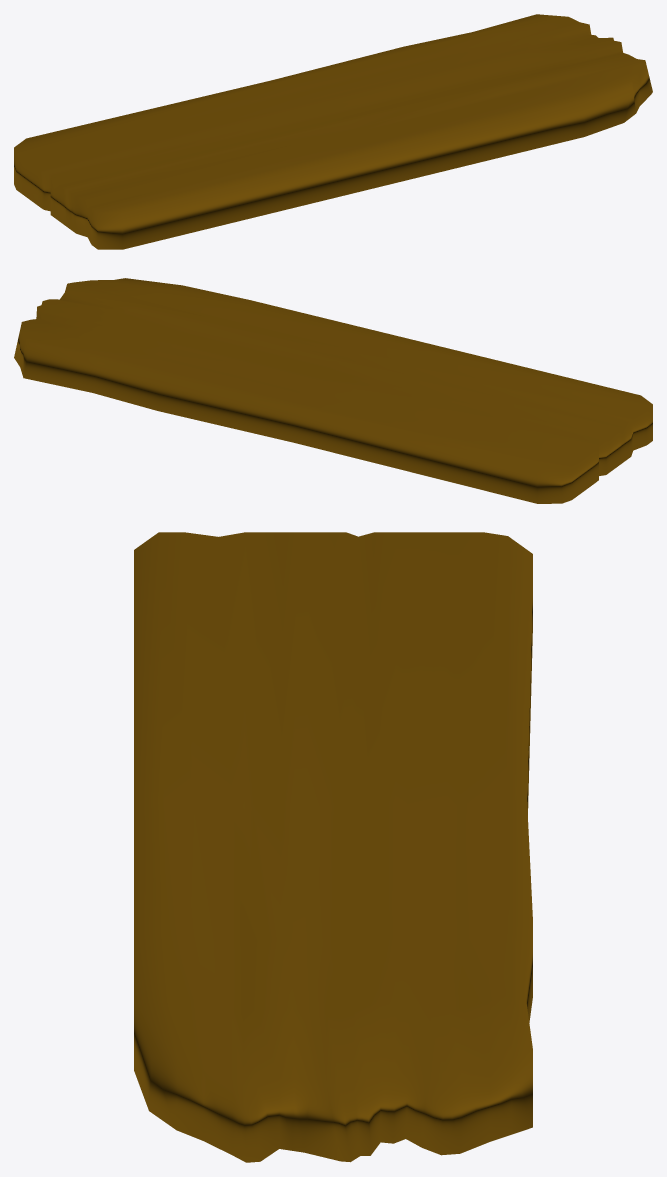
Rendered from plank1.fbx.
3 views of the same model, one above another, from view 1: azimuth 30°, elevation 25°; view 2: azimuth 150°, elevation 25°; view 3: azimuth 270°, elevation 25° (orthographic). The views are drawn at different scales.
Parts seen in each view (by area): view 1: Cube.001; view 2: Cube.001; view 3: Cube.001.
Boxes of the visible parts, bbox=[...] form: Cube.001: bbox=[14, 14, 652, 249]; Cube.001: bbox=[14, 278, 652, 503]; Cube.001: bbox=[134, 532, 532, 1162].
Size of the model in its own units: 663 by 42.13 by 200.
